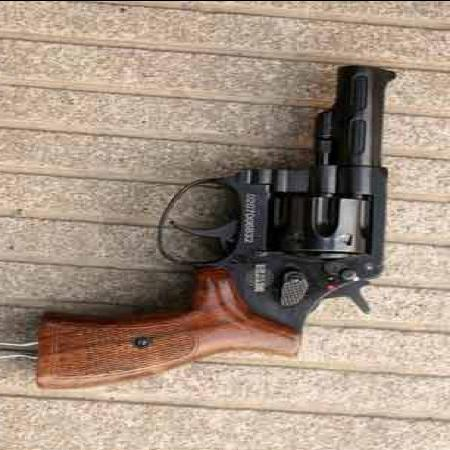Pistol: (37, 63, 398, 388)
